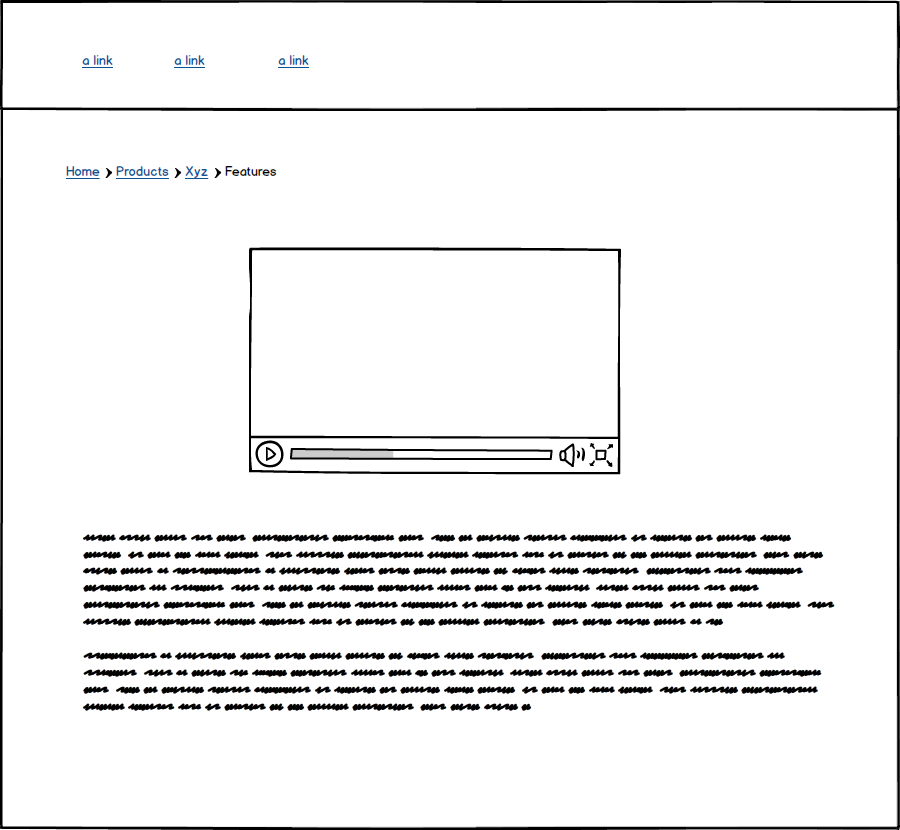h1: (58, 157, 284, 188)
navlink: (265, 43, 320, 78), (163, 45, 216, 74), (75, 44, 118, 78)
p: (74, 526, 844, 724)
video: (240, 239, 634, 481)
